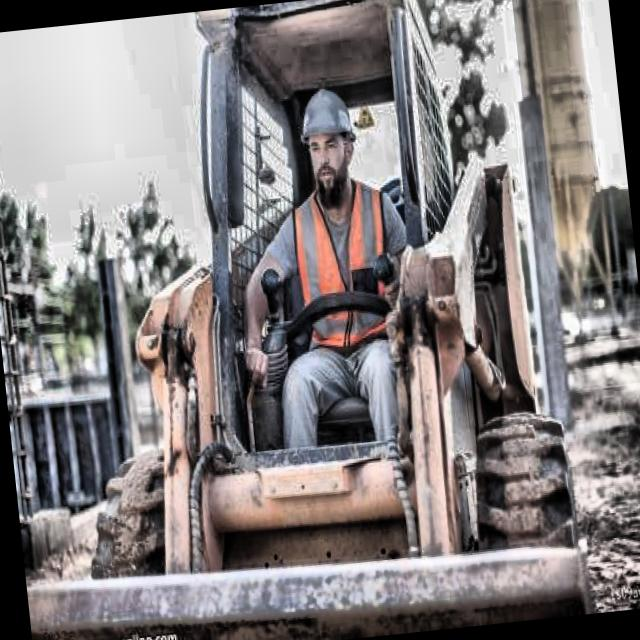helmet: (288, 86, 366, 208)
